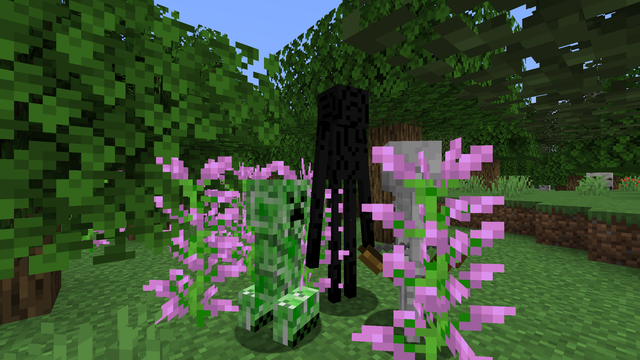creepers: (242, 171, 316, 348)
endermens: (311, 73, 373, 313)
squelettes: (368, 139, 449, 358)
